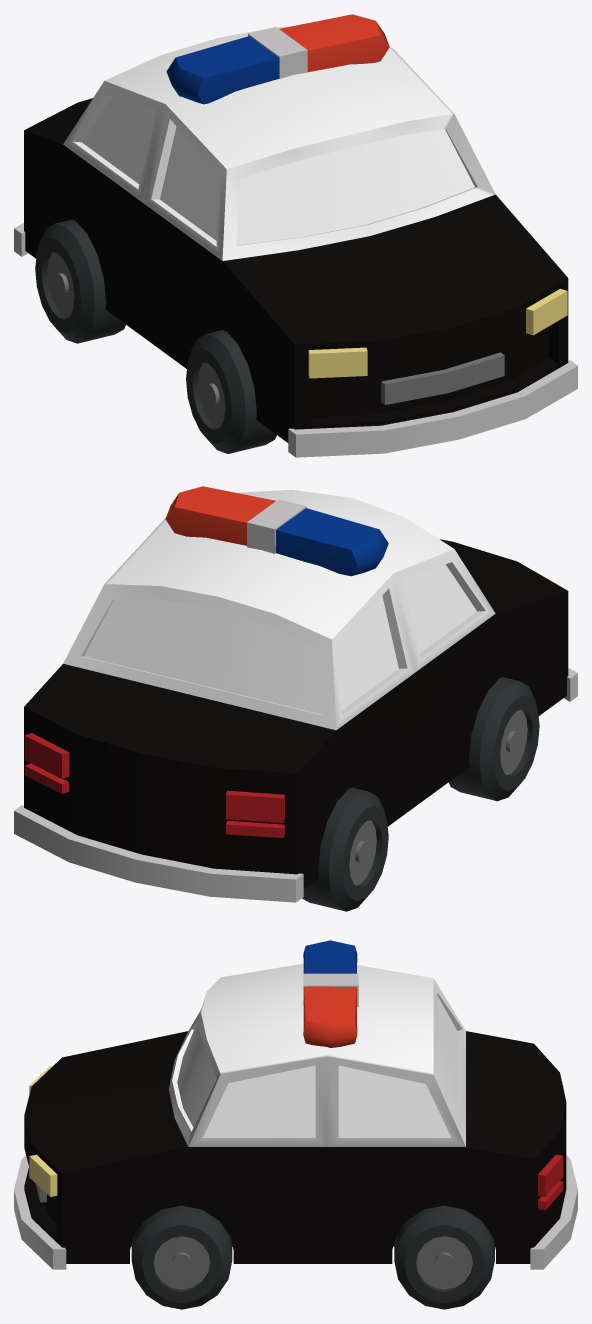
File: obj_policecar.fbx
The picture shows the model from 3 angles, top to bottom: view 1: azimuth 30°, elevation 25°; view 2: azimuth 150°, elevation 25°; view 3: azimuth 270°, elevation 25°; orthographic projection. The views are drawn at different scales.
Visible parts, largest first — view 1: obj_policecar; view 2: obj_policecar; view 3: obj_policecar.
Boxes of the visible parts, box(x1,y1,x2,y2) form: obj_policecar: box(14, 14, 577, 457); obj_policecar: box(14, 486, 577, 911); obj_policecar: box(14, 940, 577, 1309).
Size of the model in its own units: 1.38 by 1.35 by 2.55.
2 materials, 2 textured.
